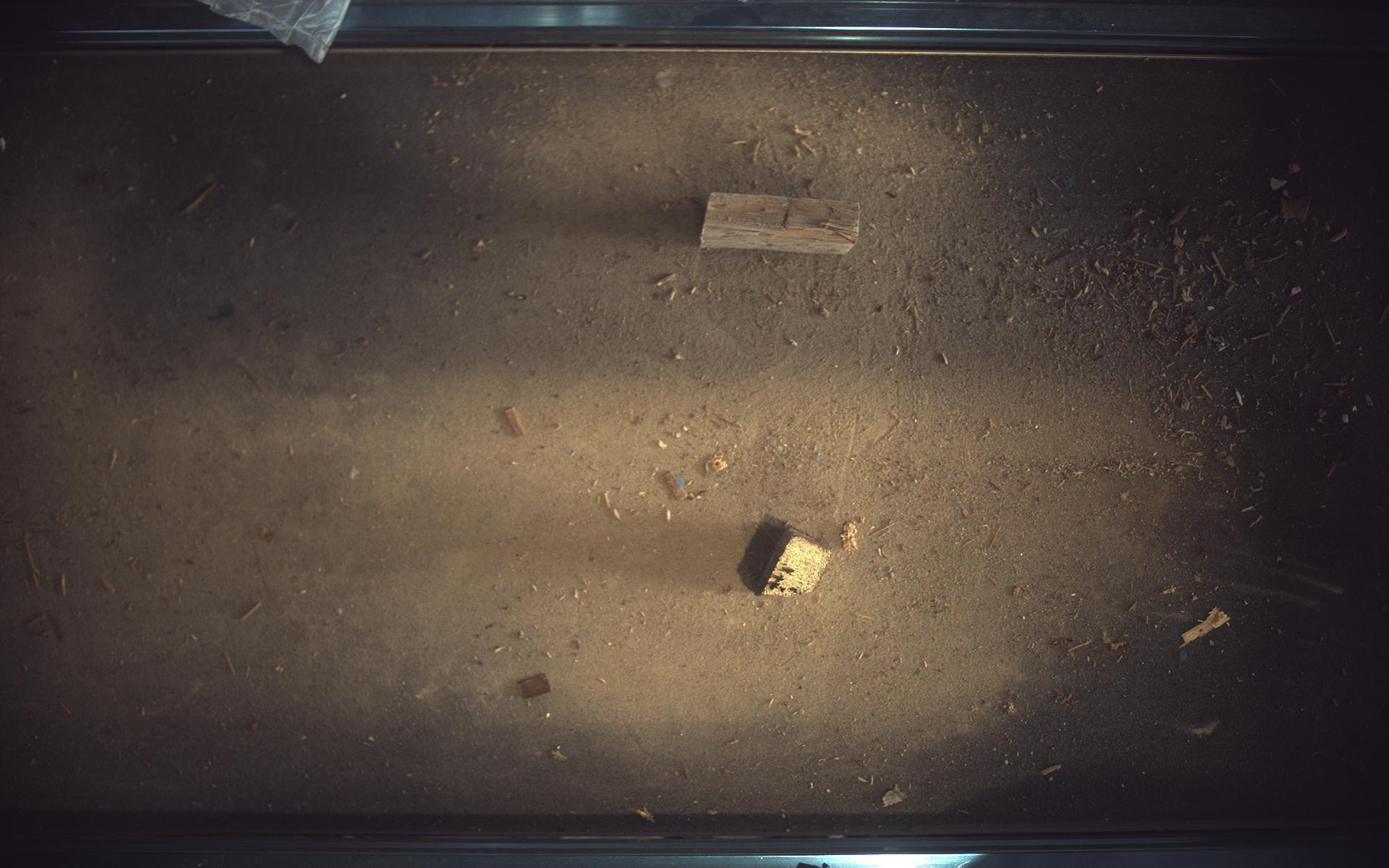wood: (702, 191, 862, 253), (755, 528, 831, 597)
